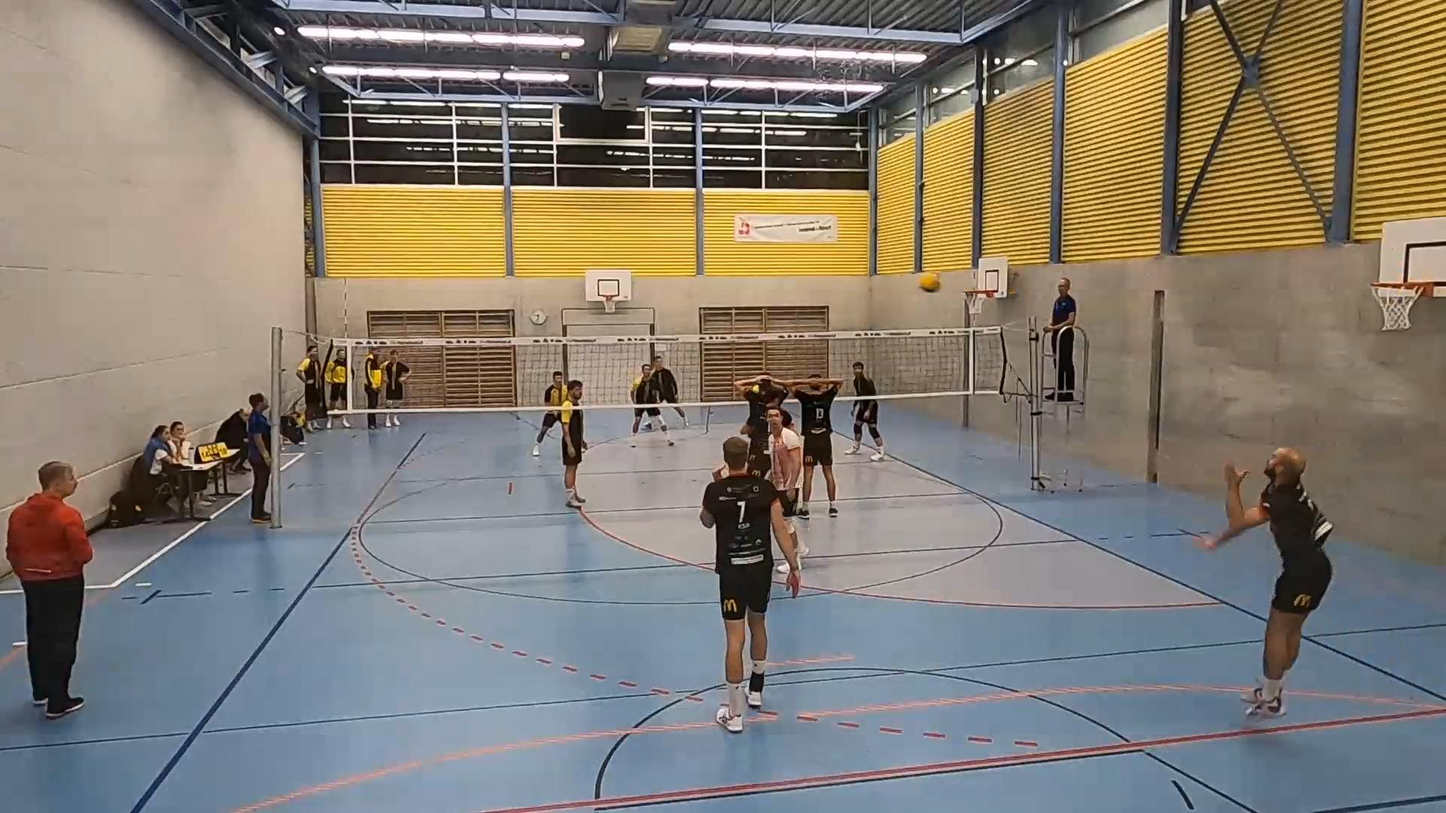Player: (1197, 448, 1332, 717), (700, 437, 801, 732), (789, 374, 843, 518), (767, 407, 807, 564), (734, 373, 786, 476), (845, 361, 885, 461), (630, 364, 673, 446), (560, 379, 587, 507), (532, 370, 566, 456), (652, 355, 688, 428)
ball: (921, 273, 946, 292)
